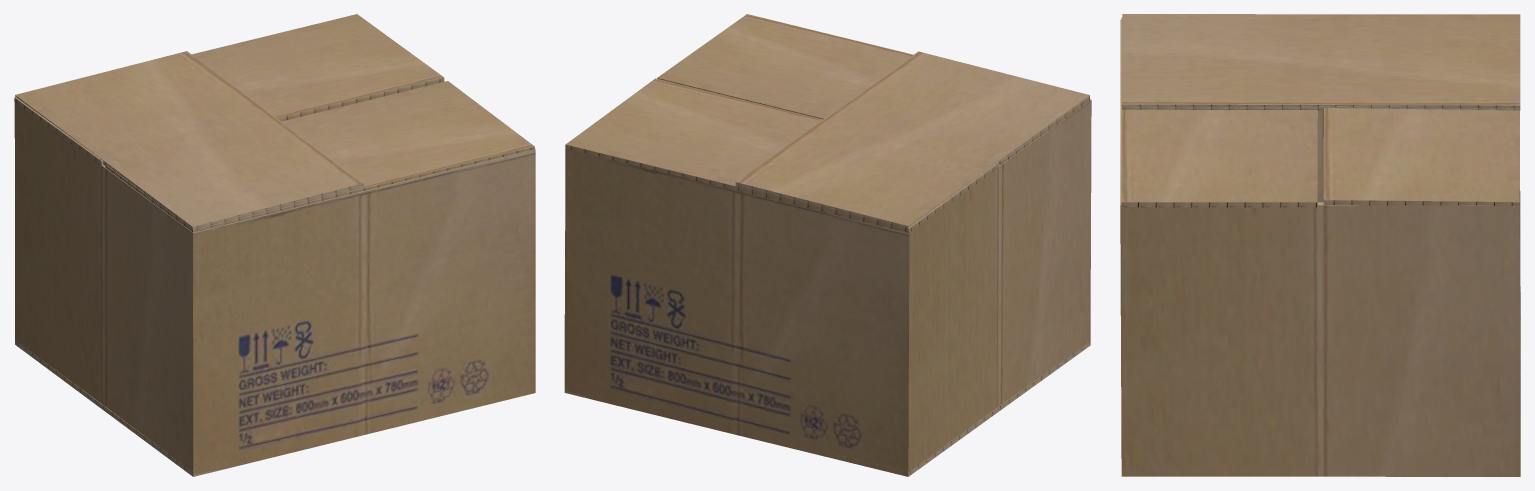
Rendered from SketchupBox.FBX.
3 renders of one model, left to right at view 1: azimuth 30°, elevation 25°; view 2: azimuth 150°, elevation 25°; view 3: azimuth 270°, elevation 25°, orthographic. The views are drawn at different scales.
Parts seen in each view (by area): view 1: SketchupBox; view 2: SketchupBox; view 3: SketchupBox.
Part boxes in pixels (x1,y1,x2,y2): SketchupBox: (14, 14, 535, 476); SketchupBox: (564, 14, 1091, 476); SketchupBox: (1120, 14, 1520, 476).
Bounding box in the file's own units: 9.46 × 6.61 × 8.58.
Materials: 1 (1 with a texture image).
